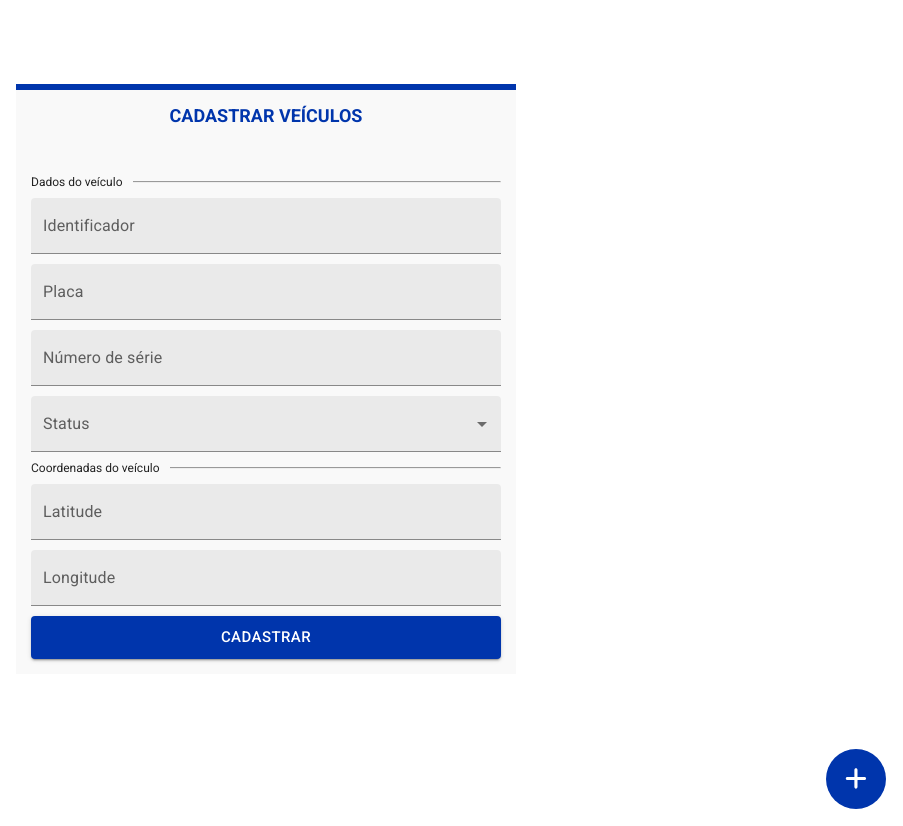
Test: Testing <RegisterVehicles /> Page › Should show errors
Step 1. Click the button with test id "button-register" → (266, 638), box [31, 616, 501, 659]
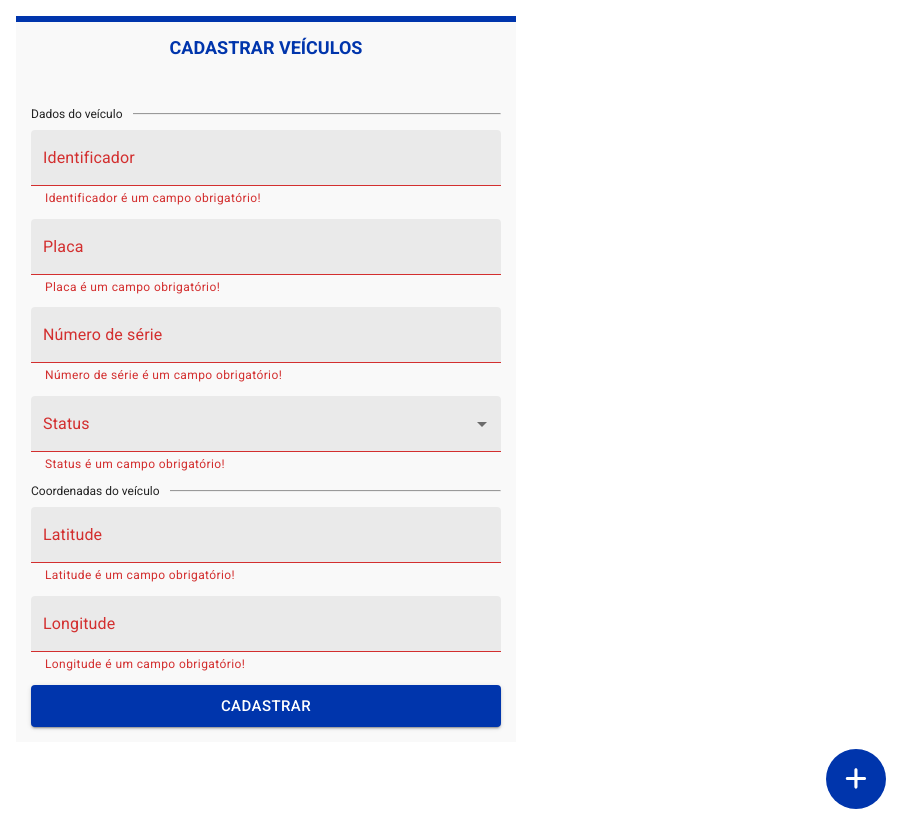
Expected: the text "Identificador é um campo obrigatório!" is shown 6 times, [45, 191, 261, 205]; [45, 280, 220, 294]; [45, 368, 282, 382]; [45, 457, 225, 471]; [45, 568, 235, 582]; [45, 657, 245, 671]
